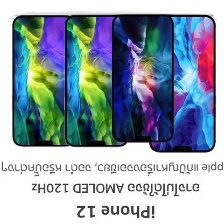phone: (147, 12, 219, 155), (59, 11, 131, 147), (9, 13, 74, 149), (111, 12, 176, 144)
